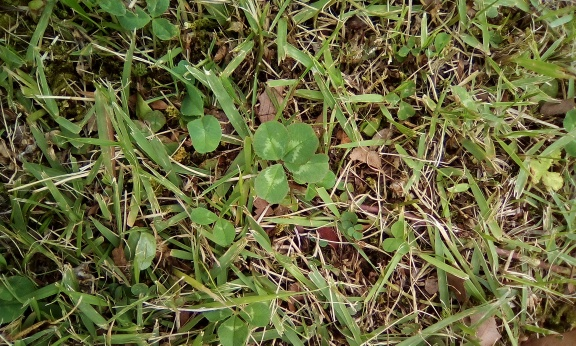4leaf: (251, 119, 330, 205)
